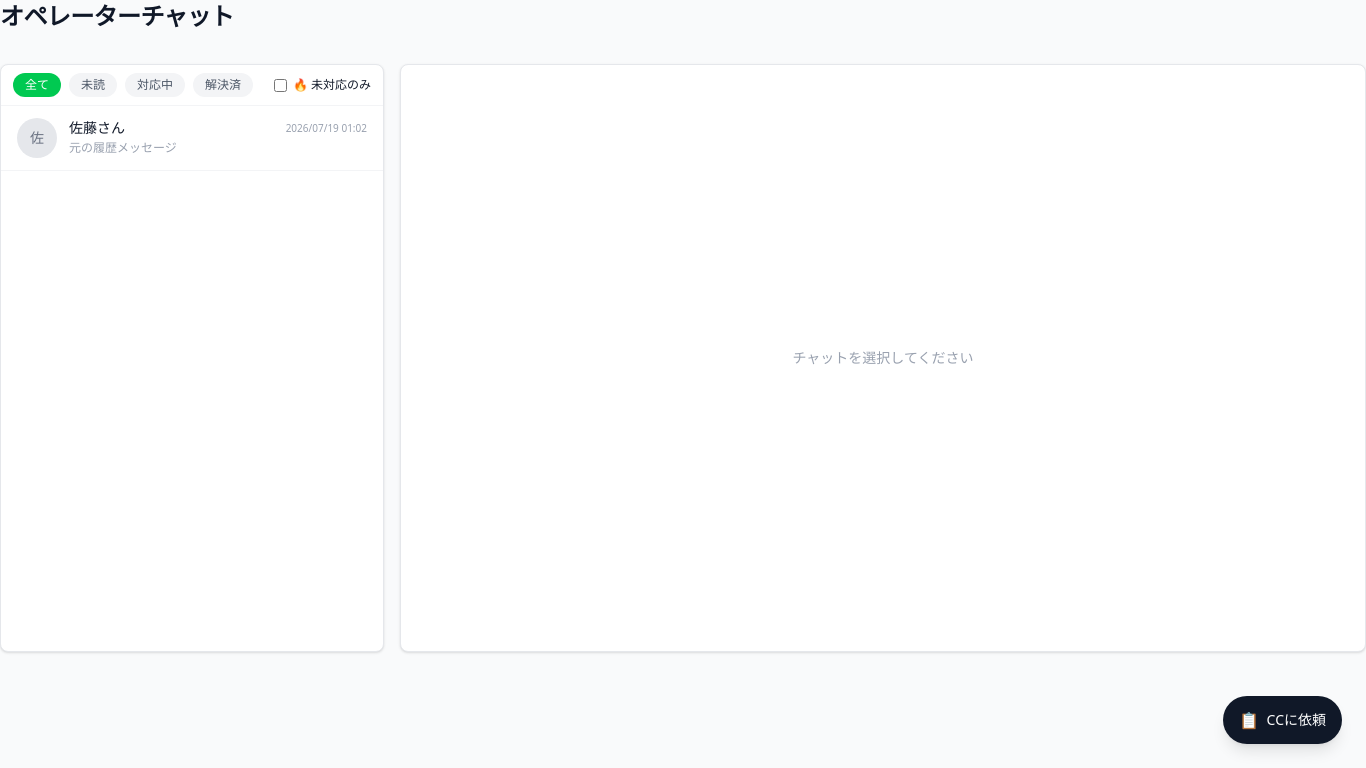
Scenario: 個別チャット履歴の拡大表示 › × ボタンで閉じ、元の狭い表示を残す
Click the button "佐 佐藤さん 2026/07/19 01:02 元の履歴メッセージ". click: (37, 138)
box: 1,106 -> 383,171
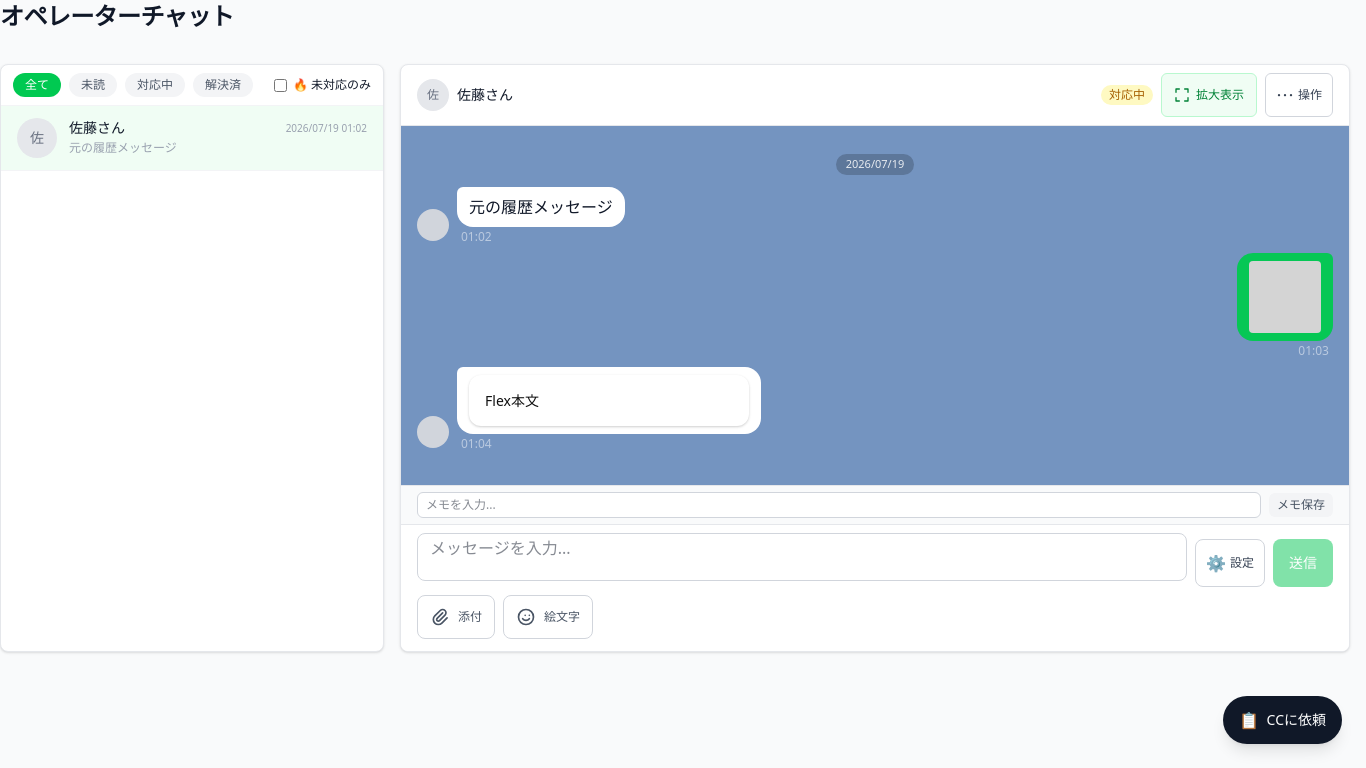
expect the button with aria-label "チャット履歴を拡大表示" is shown: met
Click the button with aria-label "チャット履歴を拡大表示". click: (1209, 95)
box: 1161,73 -> 1257,117
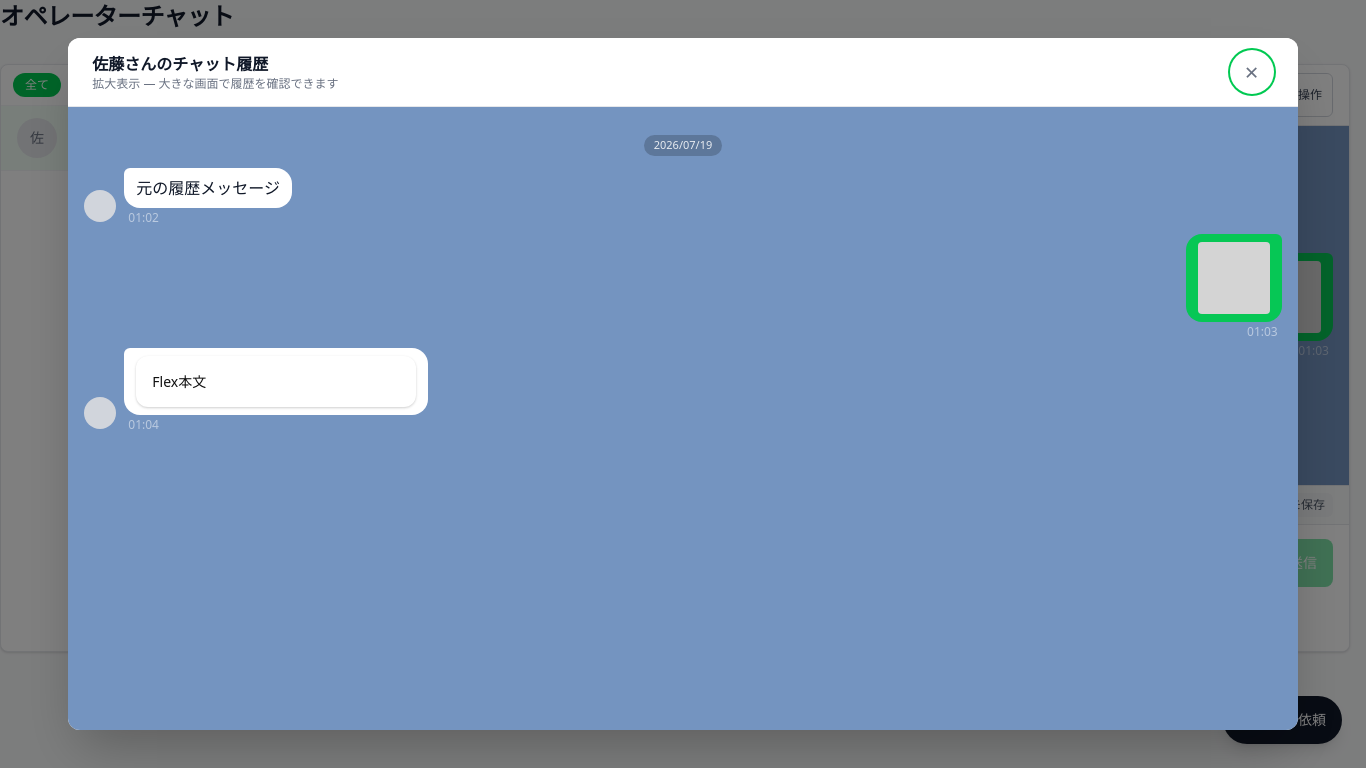
Click the button named "拡大表示を閉じる". click: (1252, 72)
box: 1230,50 -> 1274,94
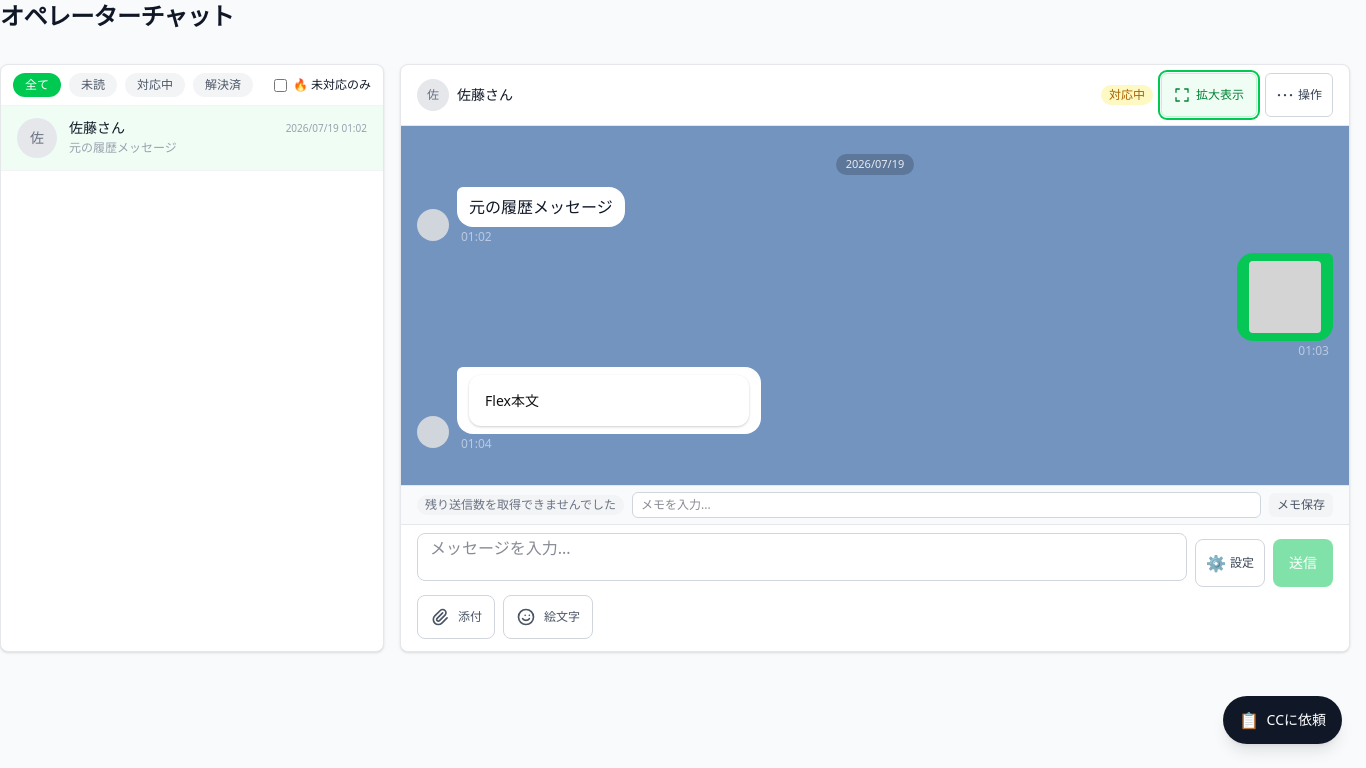
expect the 2nd text "元の履歴メッセージ" is shown: met, box 469,196 -> 613,218
expect the dialog is gone: met
expect the number of elements with test id "chat-message-history" is 1: met, box 401,126 -> 1349,485
